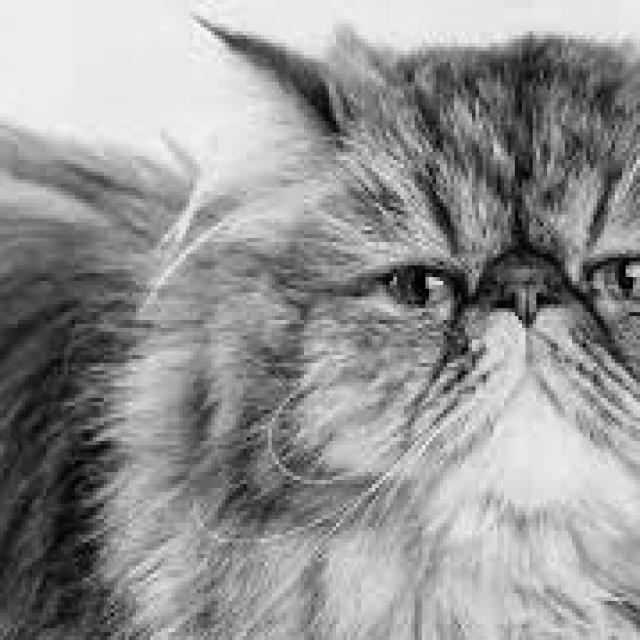iran: (232, 16, 640, 507)
